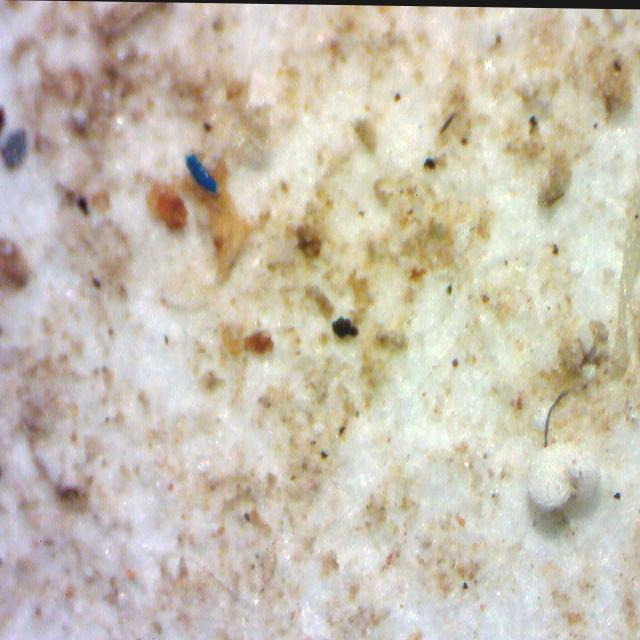microplastic: (185, 152, 217, 191)
